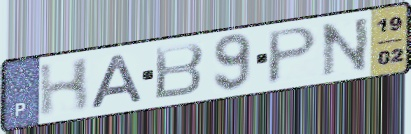9: (211, 31, 254, 95)
A: (86, 52, 147, 111)
B: (153, 41, 207, 102)
H: (37, 54, 93, 120)
N: (319, 14, 372, 79)
P: (264, 24, 321, 87)
